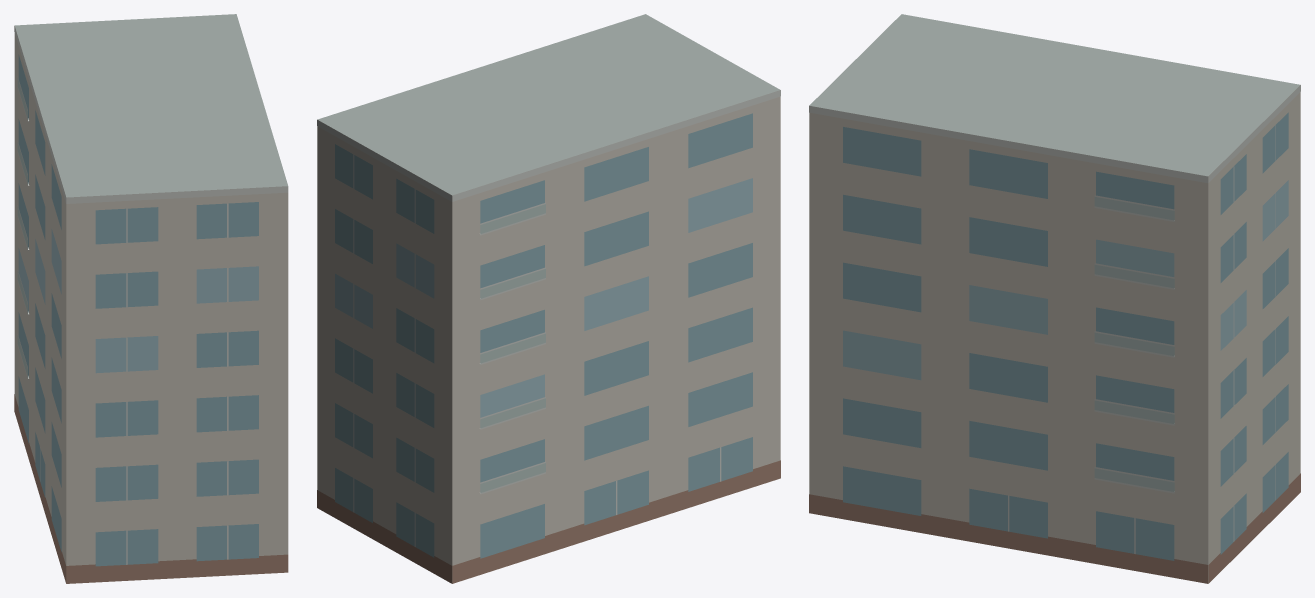
Rendered from survey-upis-32891023.glb.
3 views of the same model, side by side, from view 1: azimuth 30°, elevation 25°; view 2: azimuth 150°, elevation 25°; view 3: azimuth 270°, elevation 25° (orthographic). The views are drawn at different scales.
Visible parts, largest first — view 1: survey-upis-32891023.tmp; view 2: survey-upis-32891023.tmp; view 3: survey-upis-32891023.tmp.
Boxes of the visible parts, x1,y1,x2,y2 form: survey-upis-32891023.tmp: [14, 14, 288, 583]; survey-upis-32891023.tmp: [317, 14, 780, 583]; survey-upis-32891023.tmp: [809, 14, 1300, 583].
Bounding box in the file's own units: 12.45 × 14.55 × 15.92.
